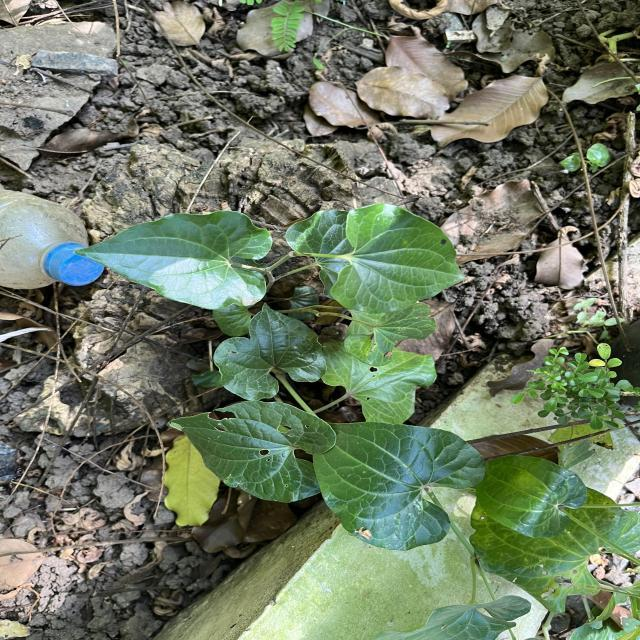Piper longum: (312, 420, 488, 552), (71, 208, 275, 312)
